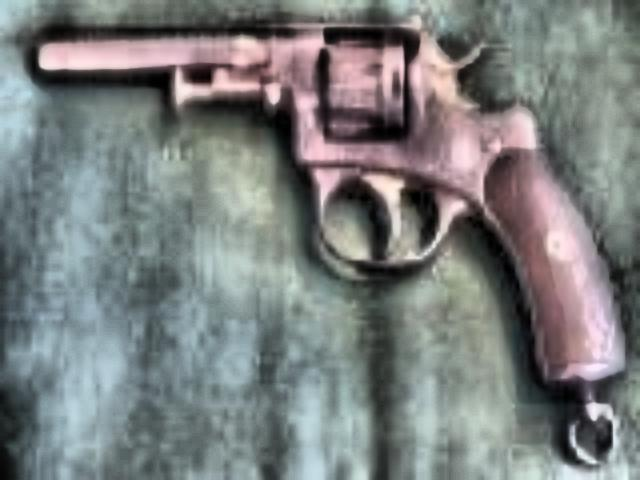pistol: (24, 8, 616, 384)
